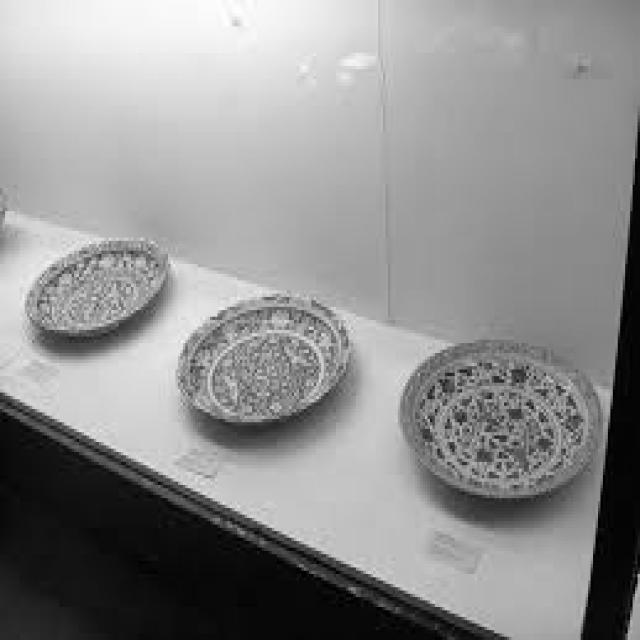dish: (147, 247, 360, 460)
